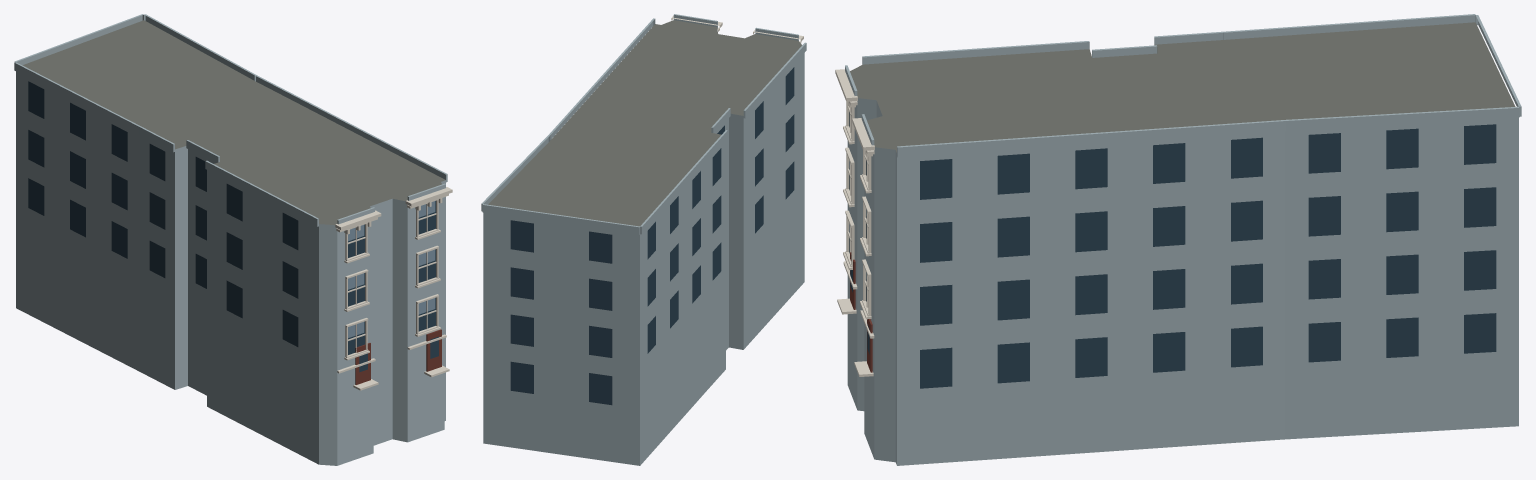
3 views of the same model, side by side, from view 1: azimuth 30°, elevation 25°; view 2: azimuth 150°, elevation 25°; view 3: azimuth 270°, elevation 25° (orthographic). The views are drawn at different scales.
Parts seen in each view (by area): view 1: Footprint 0 / surface 2, Footprint 0 / surface 1, Inset glazing, Facade bay volumes, Cornices and window frames, Sky reflection panels, Storefronts and doors; view 2: Footprint 0 / surface 2, Footprint 0 / surface 1, Inset glazing, Facade bay volumes; view 3: Footprint 0 / surface 2, Footprint 0 / surface 1, Inset glazing, Facade bay volumes, Cornices and window frames.
Boxes of the visible parts, x1,y1,x2,y2 form: Footprint 0 / surface 2: (16, 71, 445, 465); Footprint 0 / surface 1: (22, 20, 445, 224); Inset glazing: (28, 81, 438, 372); Facade bay volumes: (14, 14, 447, 226); Cornices and window frames: (335, 187, 452, 390); Sky reflection panels: (348, 201, 435, 337); Storefronts and doors: (355, 329, 441, 384); Footprint 0 / surface 2: (483, 53, 804, 465); Footprint 0 / surface 1: (488, 20, 801, 226); Inset glazing: (510, 67, 794, 405); Facade bay volumes: (481, 14, 806, 234); Footprint 0 / surface 2: (847, 98, 1518, 465); Footprint 0 / surface 1: (850, 22, 1515, 152); Inset glazing: (849, 112, 1496, 388); Facade bay volumes: (845, 14, 1521, 157); Cornices and window frames: (835, 69, 874, 376).
Bounding box in the file's own units: 14.03 × 15.65 × 30.46.
